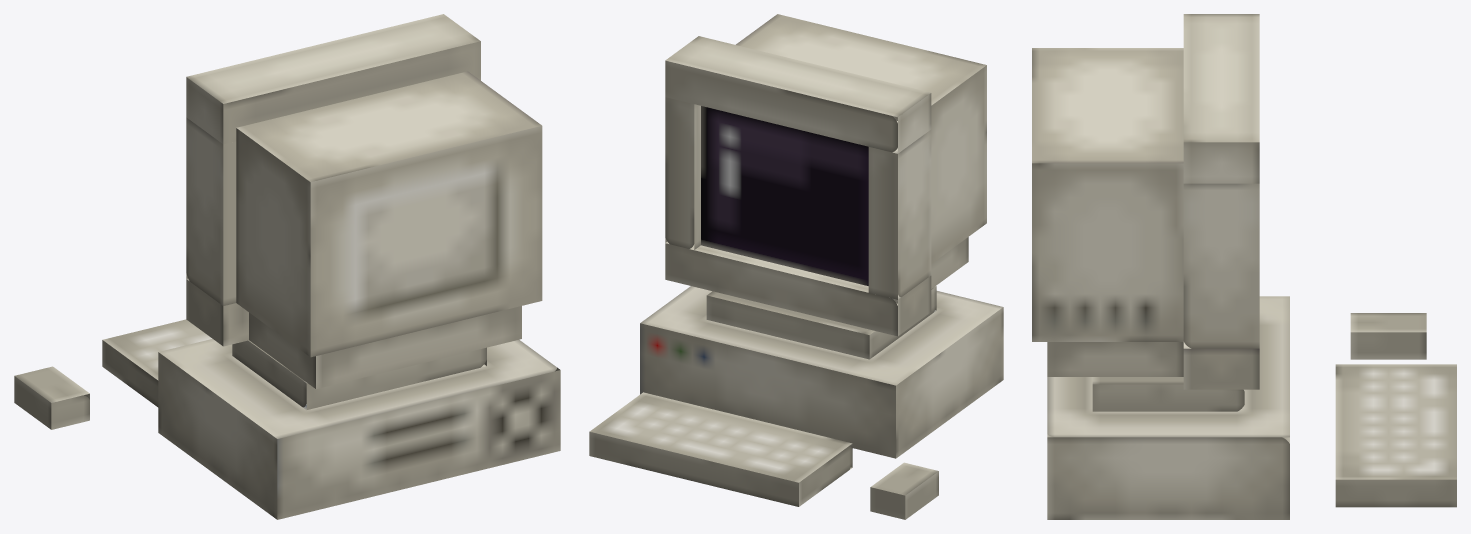
Rendered from retro-computer-pc-low-poly-3d-model.obj.
3 views of the same model, side by side, from view 1: azimuth 30°, elevation 25°; view 2: azimuth 150°, elevation 25°; view 3: azimuth 270°, elevation 25° (orthographic). The views are drawn at different scales.
Visible parts, largest first — view 1: obj9, obj1, obj5, obj10, obj7, obj2, obj11, obj12, obj4; view 2: obj1, obj8, obj9, obj11, obj5, obj4, obj7, obj2, obj6, obj12, obj10; view 3: obj9, obj1, obj11, obj5, obj6, obj10, obj2, obj12, obj4.
Part boxes in pixels (left/top/right/bottom): obj9: left=236, top=71, right=542, bottom=357; obj1: left=158, top=339, right=560, bottom=519; obj5: left=186, top=14, right=480, bottom=144; obj10: left=249, top=306, right=521, bottom=389; obj7: left=186, top=117, right=236, bottom=305; obj2: left=232, top=340, right=486, bottom=409; obj11: left=102, top=319, right=212, bottom=407; obj12: left=14, top=366, right=89, bottom=429; obj4: left=186, top=279, right=248, bottom=346; obj1: left=640, top=286, right=1003, bottom=458; obj8: left=701, top=106, right=868, bottom=285; obj9: left=735, top=14, right=986, bottom=263; obj11: left=589, top=392, right=852, bottom=506; obj5: left=665, top=36, right=931, bottom=153; obj4: left=665, top=241, right=931, bottom=336; obj7: left=868, top=129, right=931, bottom=299; obj2: left=706, top=286, right=936, bottom=359; obj6: left=665, top=97, right=700, bottom=249; obj12: left=870, top=462, right=938, bottom=519; obj10: left=893, top=237, right=968, bottom=303; obj9: left=1032, top=48, right=1183, bottom=341; obj1: left=1047, top=296, right=1289, bottom=519; obj11: left=1335, top=364, right=1456, bottom=507; obj5: left=1183, top=14, right=1259, bottom=183; obj6: left=1183, top=183, right=1259, bottom=348; obj10: left=1047, top=342, right=1183, bottom=376; obj2: left=1092, top=377, right=1244, bottom=411; obj12: left=1350, top=313, right=1426, bottom=359; obj4: left=1183, top=342, right=1259, bottom=389.
Size of the model in its own units: 1.75 by 1.69 by 1.75.
1 material, 1 textured.
